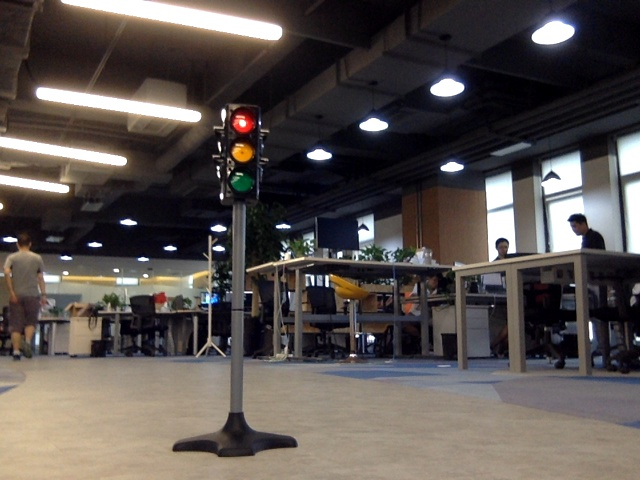red: (228, 108, 255, 192)
